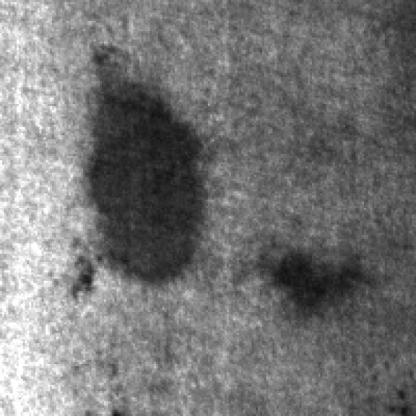patches: (82, 64, 216, 294), (268, 244, 376, 316)
